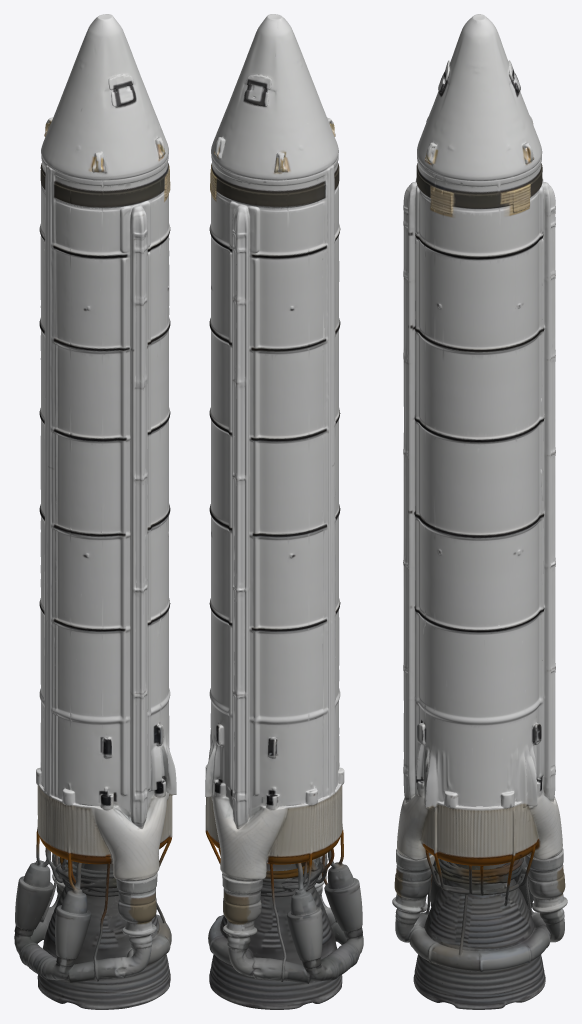
File: Hilfstriebwerk.glb
The picture shows the model from 3 angles, left to right: view 1: azimuth 30°, elevation 25°; view 2: azimuth 150°, elevation 25°; view 3: azimuth 270°, elevation 25°; orthographic projection.
Parts seen in each view (by area): view 1: node_0; view 2: node_0; view 3: node_0.
Part boxes in pixels (x1,y1,x2,y2): node_0: [14, 14, 176, 1009]; node_0: [205, 14, 363, 1009]; node_0: [392, 14, 567, 1009].
Bounding box in the file's own units: 0.1716 × 1.19 × 0.1958.
1 material, 1 textured.
